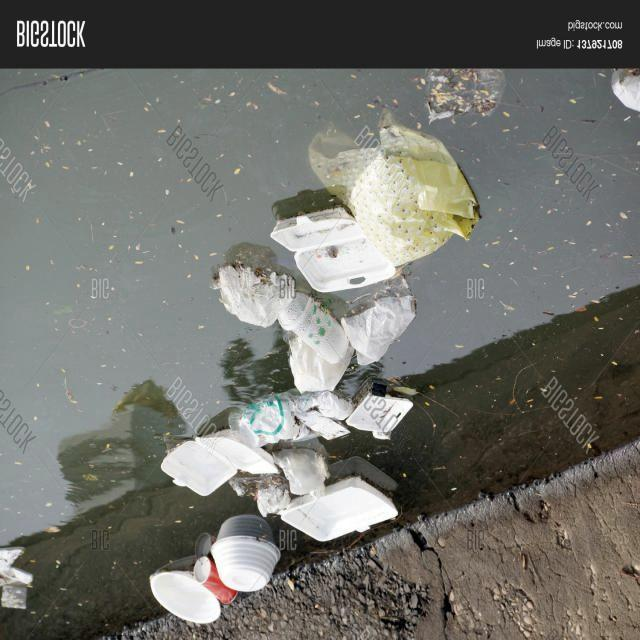Plastic: (271, 206, 408, 294), (159, 430, 279, 498), (278, 486, 404, 548), (149, 564, 228, 626), (280, 294, 348, 362), (213, 531, 283, 594), (353, 383, 420, 441), (198, 544, 241, 607), (310, 406, 353, 444), (612, 69, 640, 119), (316, 390, 355, 424)
Trash: (305, 117, 484, 268), (213, 261, 299, 334), (343, 296, 420, 370), (227, 389, 326, 445), (277, 446, 333, 495), (2, 583, 33, 618)
